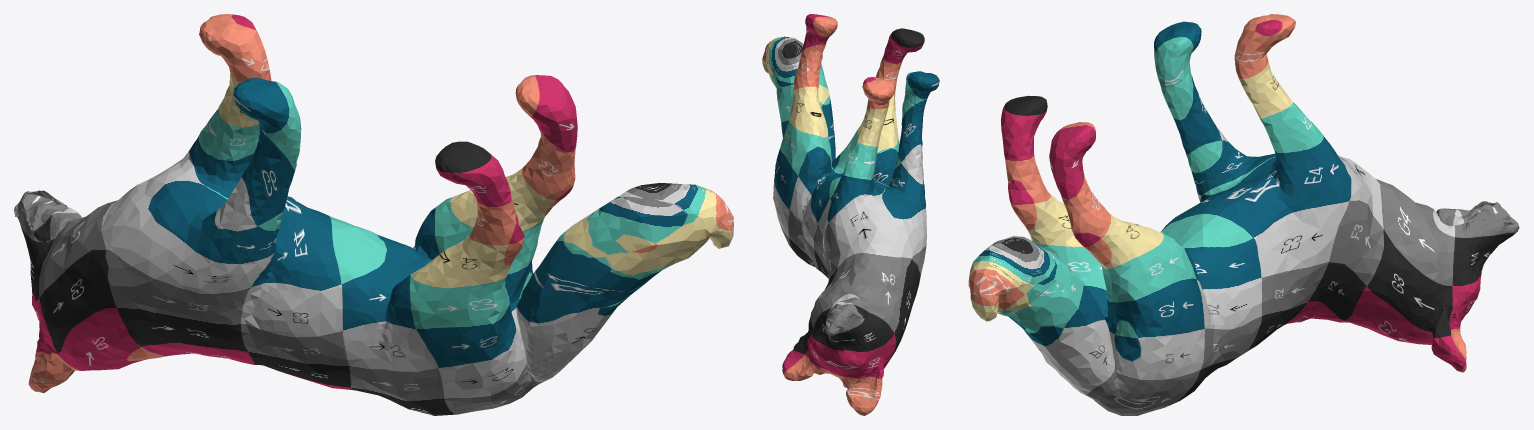
Rendered from wolf_01-fox_01.obj.
The picture shows the model from 3 angles, left to right: view 1: azimuth 30°, elevation 25°; view 2: azimuth 150°, elevation 25°; view 3: azimuth 270°, elevation 25°; orthographic projection. The views are drawn at different scales.
Visible parts, largest first — view 1: wolf_01-fox_01_export; view 2: wolf_01-fox_01_export; view 3: wolf_01-fox_01_export.
Part boxes in pixels (x1,y1,x2,y2): wolf_01-fox_01_export: [14, 14, 733, 415]; wolf_01-fox_01_export: [762, 14, 939, 415]; wolf_01-fox_01_export: [968, 14, 1519, 415].
Bounding box in the file's own units: 0.6995 × 0.6346 × 0.8544.
